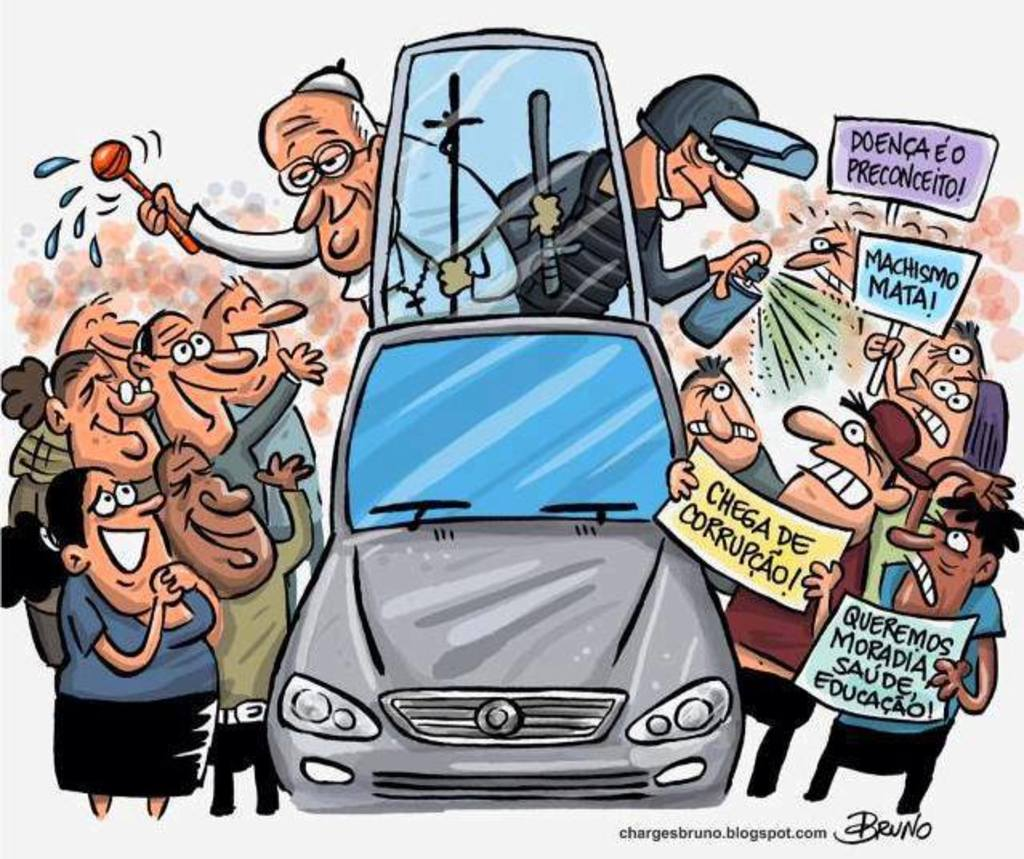cars: (265, 21, 749, 809)
